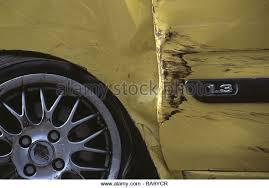doorouter-dent: (153, 0, 251, 171)
